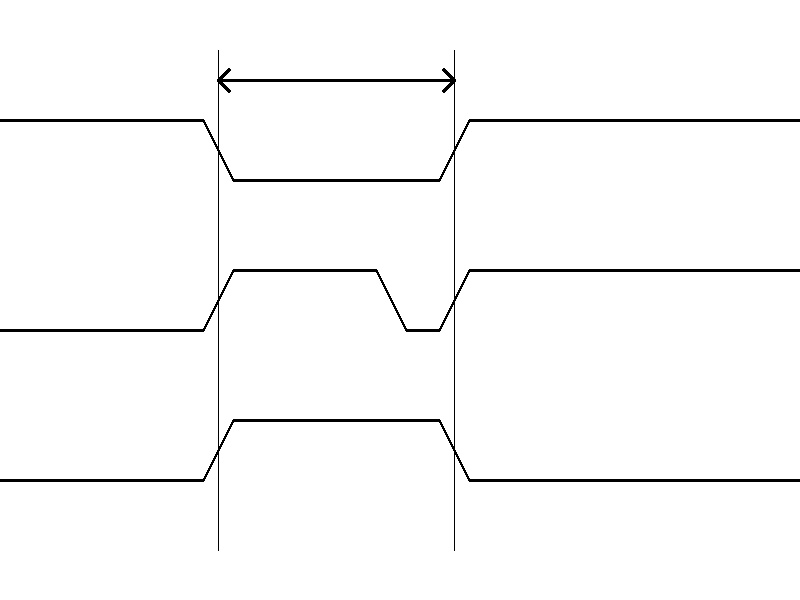double_arrow: (218, 65, 454, 95)
